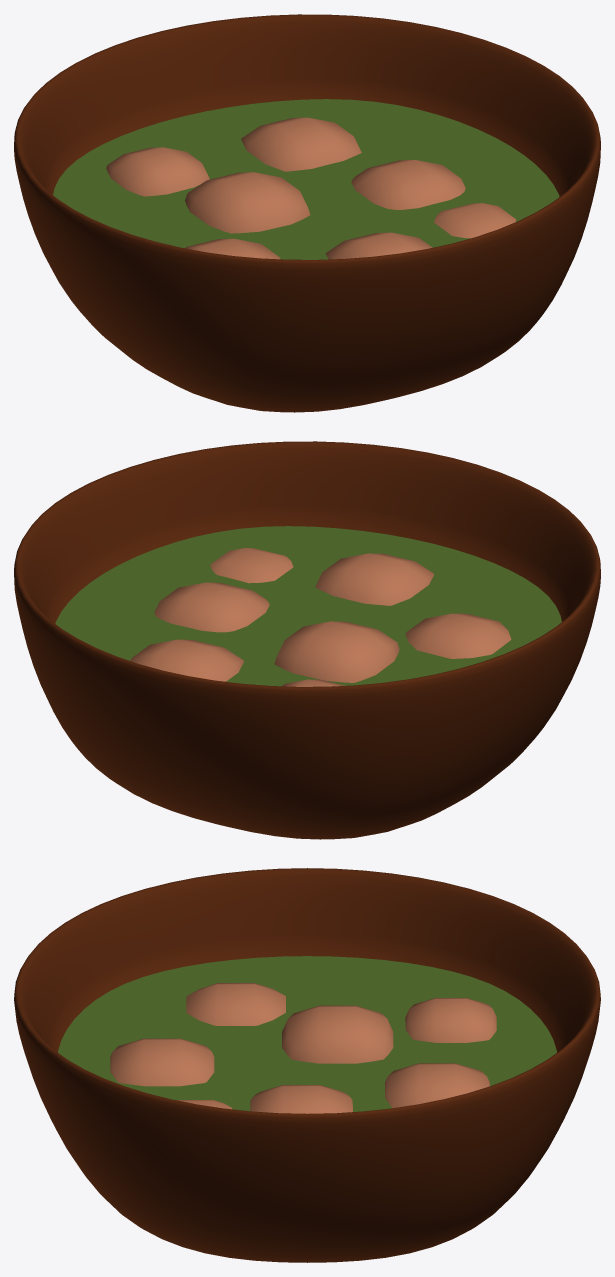
The model's file is Soep.fbx.
3 views of the same model, one above another, from view 1: azimuth 30°, elevation 25°; view 2: azimuth 150°, elevation 25°; view 3: azimuth 270°, elevation 25° (orthographic).
Parts seen in each view (by area): view 1: Cube.007; view 2: Cube.007; view 3: Cube.007.
Part boxes in pixels (x1,y1,x2,y2): Cube.007: (14,14,600,412); Cube.007: (14,441,600,839); Cube.007: (14,868,600,1262).
Bounding box in the file's own units: 172 × 73.66 × 172.
